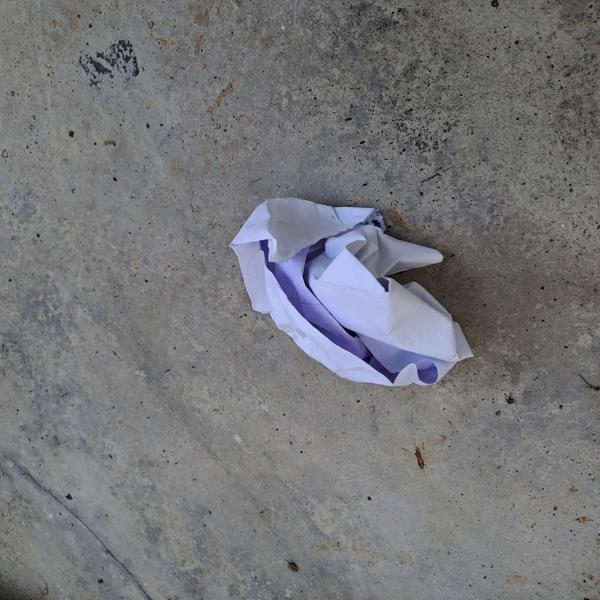Organik: (237, 162, 487, 417)
